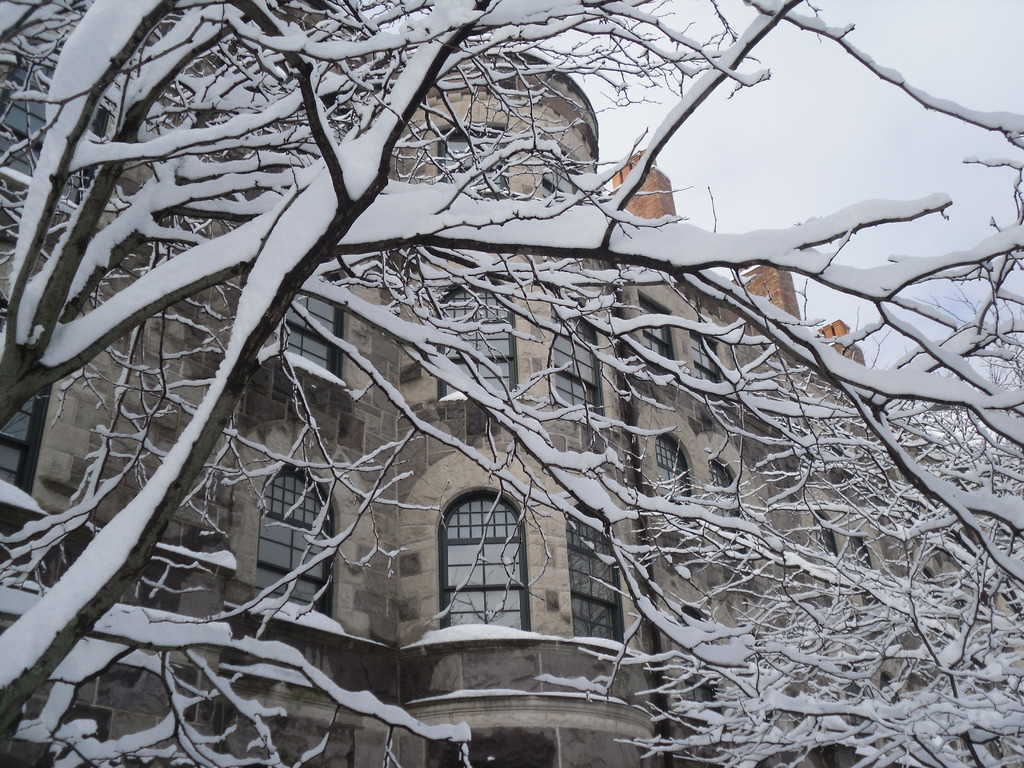Window: (219, 600, 649, 726), (0, 53, 112, 239), (440, 486, 532, 635), (257, 472, 338, 621), (0, 294, 52, 509), (436, 271, 513, 397), (275, 254, 348, 377), (568, 506, 625, 646), (551, 287, 604, 417), (134, 506, 228, 573), (435, 120, 509, 202), (673, 603, 728, 713), (705, 459, 758, 562), (655, 428, 697, 525), (637, 283, 678, 381), (540, 155, 591, 232), (684, 325, 731, 399), (846, 527, 884, 609), (806, 515, 838, 567)
